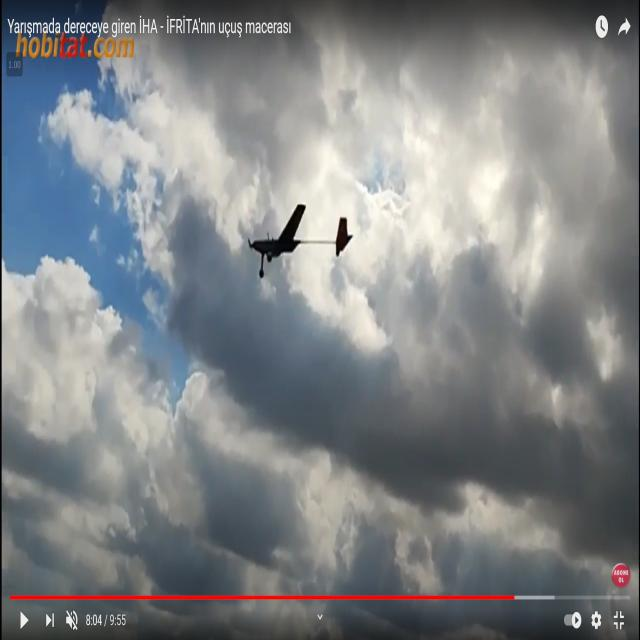iha: (279, 233, 321, 247)
